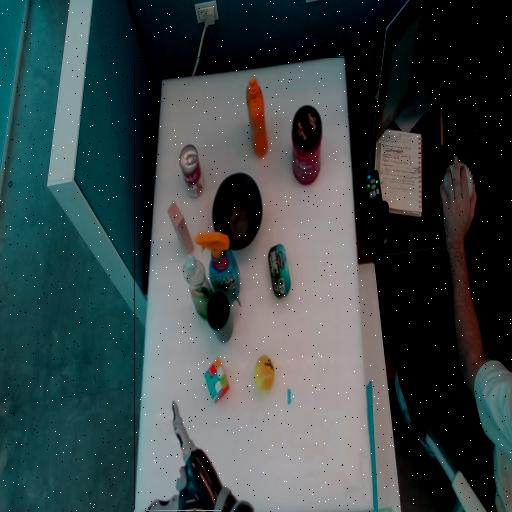bowl: (211, 174, 261, 249)
cleanser: (182, 254, 213, 319)
coffee_can: (291, 105, 320, 184)
jaco: (146, 402, 221, 511)
meat_can: (267, 261, 289, 283)
mug: (207, 291, 232, 341)
mustard_bottle: (246, 108, 266, 126)
rubik: (203, 368, 227, 393)
soup_can: (179, 159, 202, 182)
tennis_ball: (255, 357, 274, 391)
windex: (195, 232, 239, 298)
wooden_block: (166, 217, 192, 240)
workspace: (134, 58, 373, 510)
